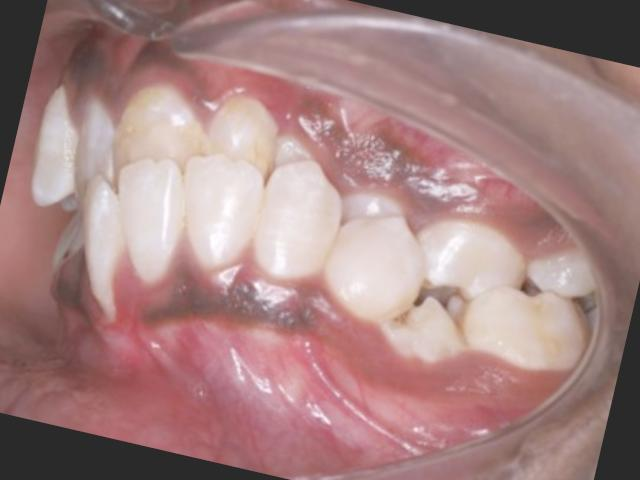molar class II full class: (393, 208, 610, 390)
